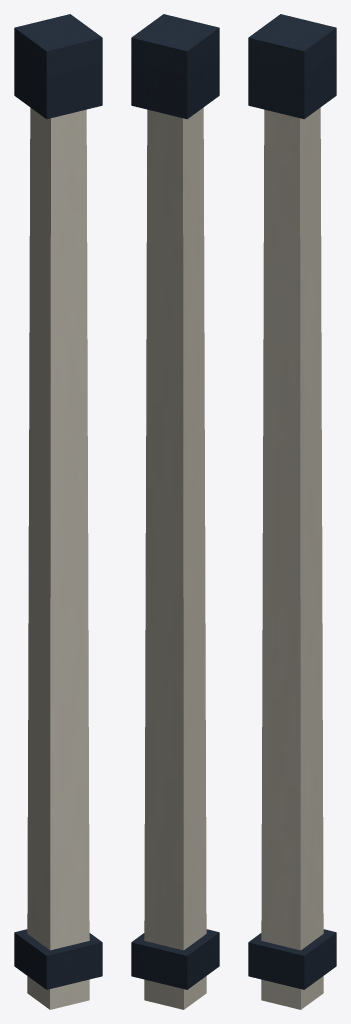
File: house_05_porch_post.glb
The picture shows the model from 3 angles, left to right: view 1: azimuth 30°, elevation 25°; view 2: azimuth 150°, elevation 25°; view 3: azimuth 330°, elevation 25°; orthographic projection.
Visible parts, largest first — view 1: outdoor_house_05_porch_post; view 2: outdoor_house_05_porch_post; view 3: outdoor_house_05_porch_post.
Boxes of the visible parts, <box> form: outdoor_house_05_porch_post: <box>14,14,102,1009</box>; outdoor_house_05_porch_post: <box>131,14,219,1009</box>; outdoor_house_05_porch_post: <box>248,14,336,1009</box>.
Bounding box in the file's own units: 0.14 × 2.3 × 0.14.
Materials: 1 (1 with a texture image).
